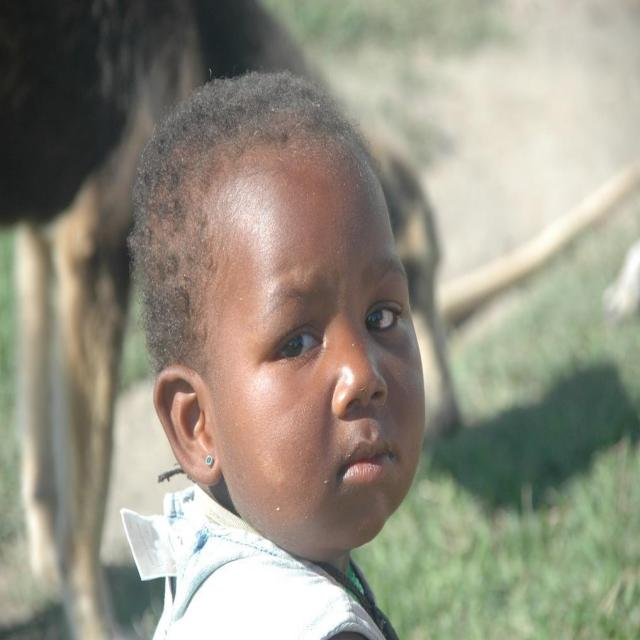no-glass: (270, 299, 398, 356)
